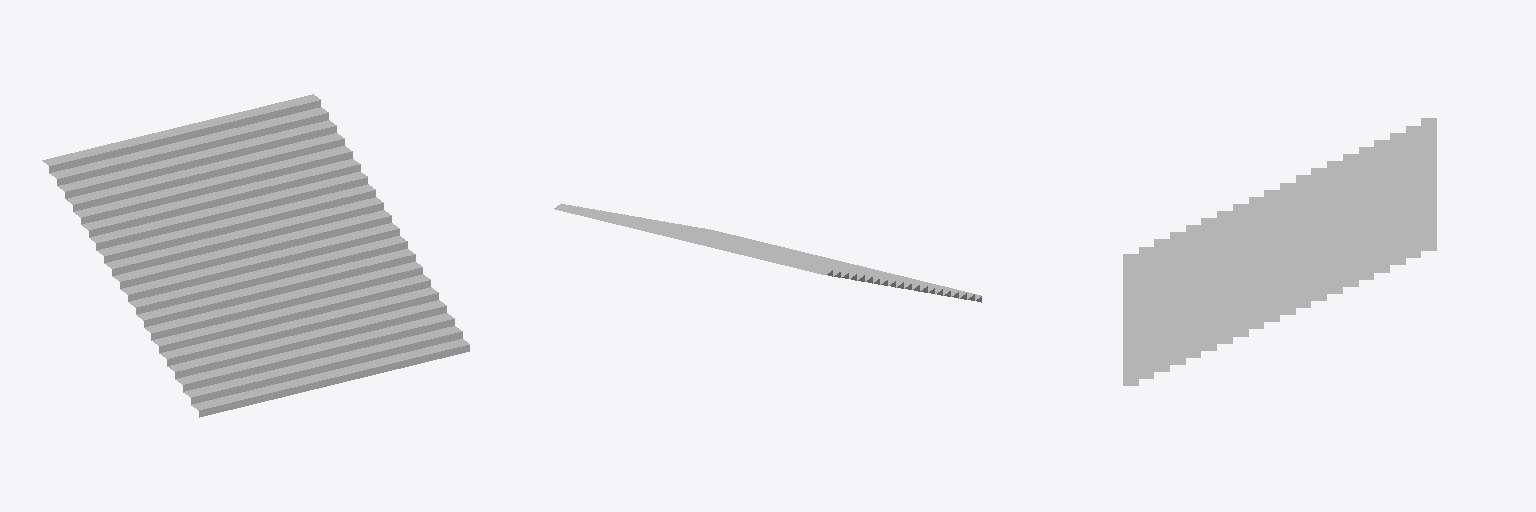
File: half_stairs_lower.obj
The picture shows the model from 3 angles: view 1: azimuth 30°, elevation 25°; view 2: azimuth 150°, elevation 25°; view 3: azimuth 270°, elevation 25°; orthographic projection.
Visible parts, largest first — view 1: Cube.003; view 2: Cube.003; view 3: Cube.003.
Boxes of the visible parts, x1,y1,x2,y2 form: Cube.003: [42, 94, 469, 417]; Cube.003: [554, 203, 981, 302]; Cube.003: [1123, 118, 1436, 385].
Bounding box in the file's own units: 4 × 2 × 4.